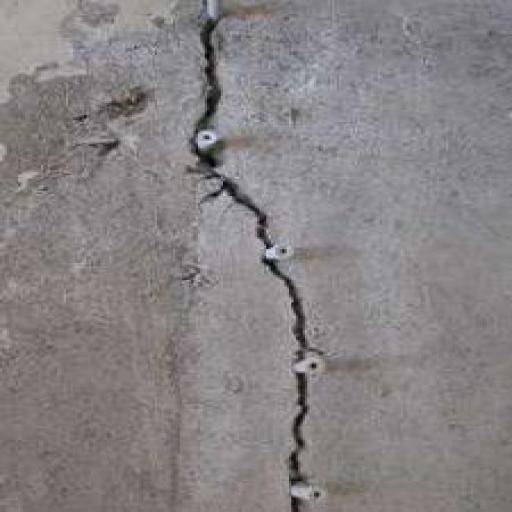spalling: (185, 10, 336, 506)
